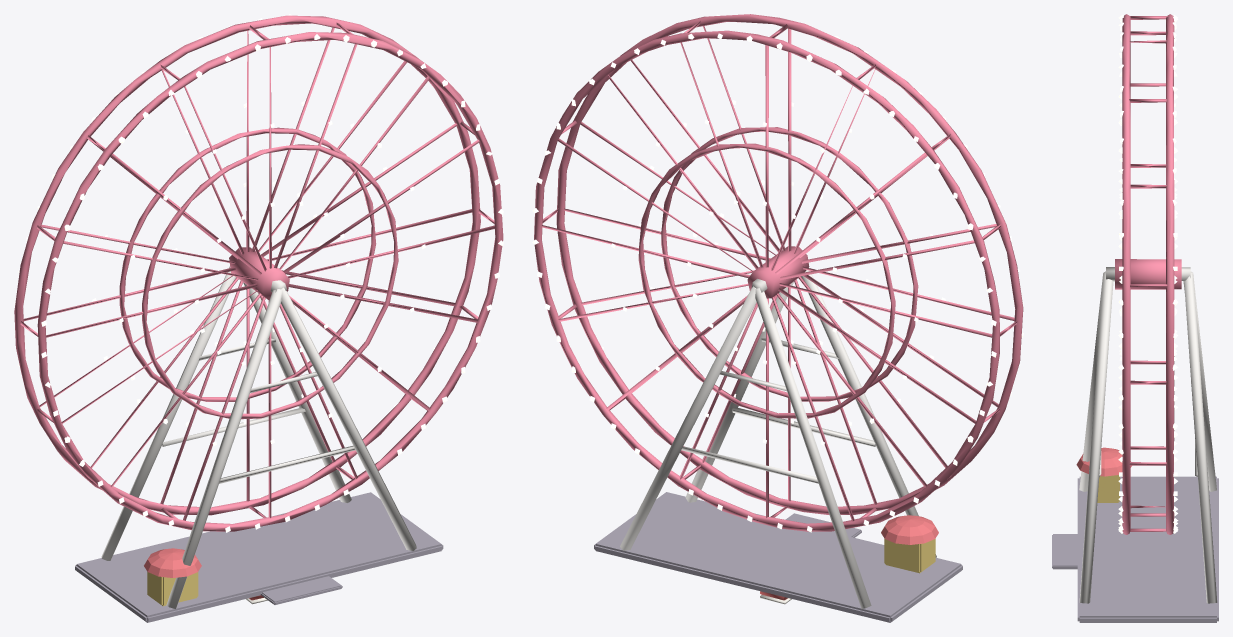
Rendered from ferriswheel.glb.
3 views of the same model, side by side, from view 1: azimuth 30°, elevation 25°; view 2: azimuth 150°, elevation 25°; view 3: azimuth 270°, elevation 25° (orthographic). The views are drawn at different scales.
Visible parts, largest first — view 1: FW_wheel.001, FW_base.001, FW_steel.001, FW_lights.001, FW_boothroof, FW_booth.001; view 2: FW_wheel.001, FW_base.001, FW_steel.001, FW_lights.001, FW_booth.001, FW_boothroof; view 3: FW_base.001, FW_wheel.001, FW_steel.001, FW_lights.001, FW_boothroof, FW_booth.001.
Part boxes in pixels (box(x1,y1,x2,y2)): FW_wheel.001: box(14, 15, 503, 531); FW_base.001: box(75, 492, 443, 622); FW_steel.001: box(101, 266, 416, 608); FW_lights.001: box(14, 14, 503, 532); FW_boothroof: box(144, 548, 201, 577); FW_booth.001: box(147, 572, 198, 606); FW_wheel.001: box(534, 14, 1023, 531); FW_base.001: box(594, 492, 962, 622); FW_steel.001: box(620, 270, 936, 608); FW_lights.001: box(532, 14, 1023, 532); FW_booth.001: box(884, 538, 935, 573); FW_boothroof: box(881, 515, 938, 544); FW_base.001: box(1052, 476, 1218, 622); FW_wheel.001: box(1115, 14, 1181, 534); FW_steel.001: box(1079, 267, 1217, 603); FW_lights.001: box(1118, 15, 1178, 533); FW_boothroof: box(1076, 447, 1131, 476); FW_booth.001: box(1097, 475, 1119, 502).
Bounding box in the file's own units: 40.64 × 47.29 × 13.
